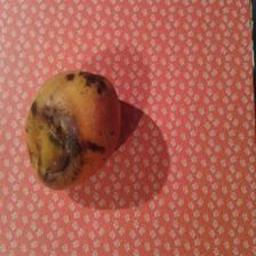Mango Rotten: (15, 62, 131, 198)
